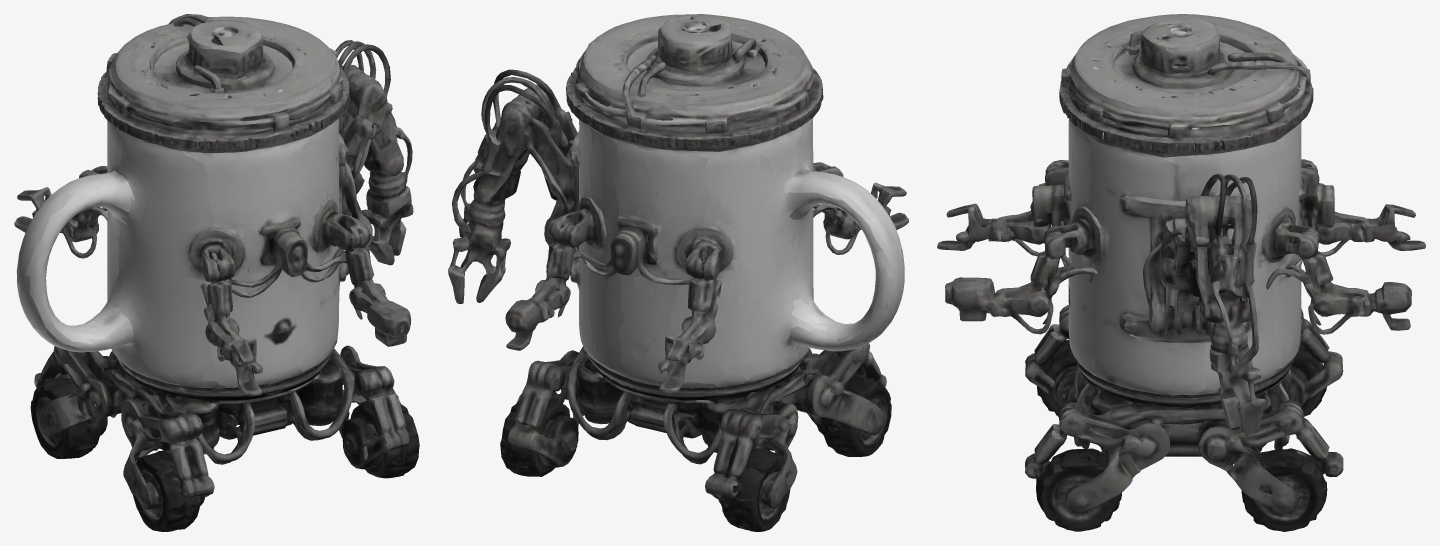
The picture shows the model from 3 angles, left to right: view 1: azimuth 30°, elevation 25°; view 2: azimuth 150°, elevation 25°; view 3: azimuth 270°, elevation 25°; orthographic projection. The views are drawn at different scales.
Parts seen in each view (by area): view 1: geometry_0; view 2: geometry_0; view 3: geometry_0.
Part boxes in pixels (x1=…): geometry_0: x1=14, y1=14, x2=419, y2=531; geometry_0: x1=448, y1=14, x2=908, y2=531; geometry_0: x1=937, y1=14, x2=1425, y2=531.
Size of the model in its own units: 0.2195 by 0.22 by 0.2198.
Materials: 1 (1 with a texture image).
